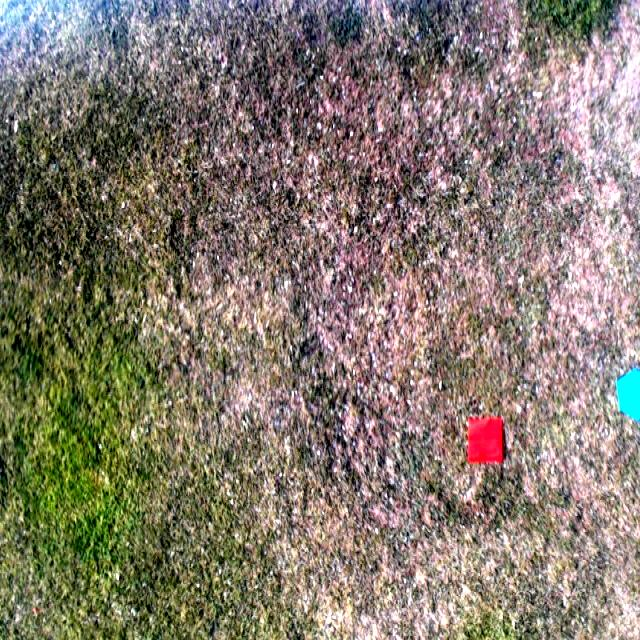red_square: (465, 412, 506, 465)
